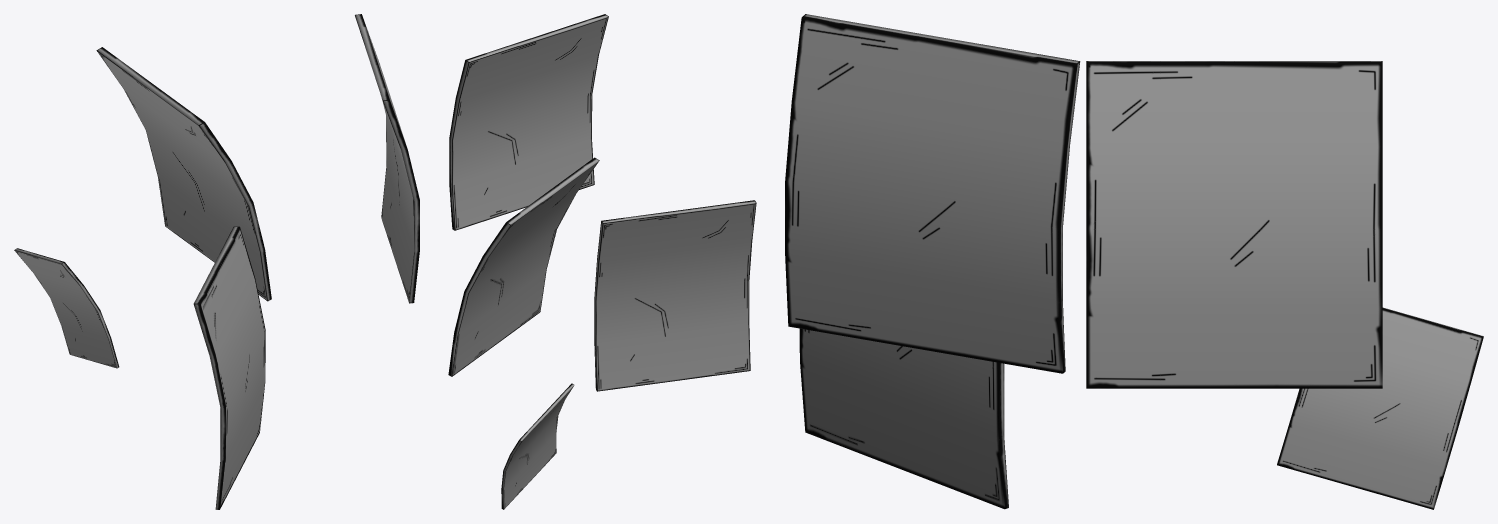
File: Flying paperstormJadi.fbx
3 views of the same model, side by side, from view 1: azimuth 30°, elevation 25°; view 2: azimuth 150°, elevation 25°; view 3: azimuth 270°, elevation 25° (orthographic). The views are drawn at different scales.
Visible parts, largest first — view 1: Plane.003; view 2: Plane.003; view 3: Plane.003.
Boxes of the visible parts, <box> form: Plane.003: <box>14,14,419,509</box>; Plane.003: <box>448,14,756,509</box>; Plane.003: <box>785,14,1483,509</box>.
Bounding box in the file's own units: 206 × 277 × 312.
